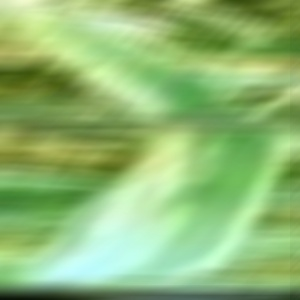Leaf_Blast: (90, 29, 270, 288)
